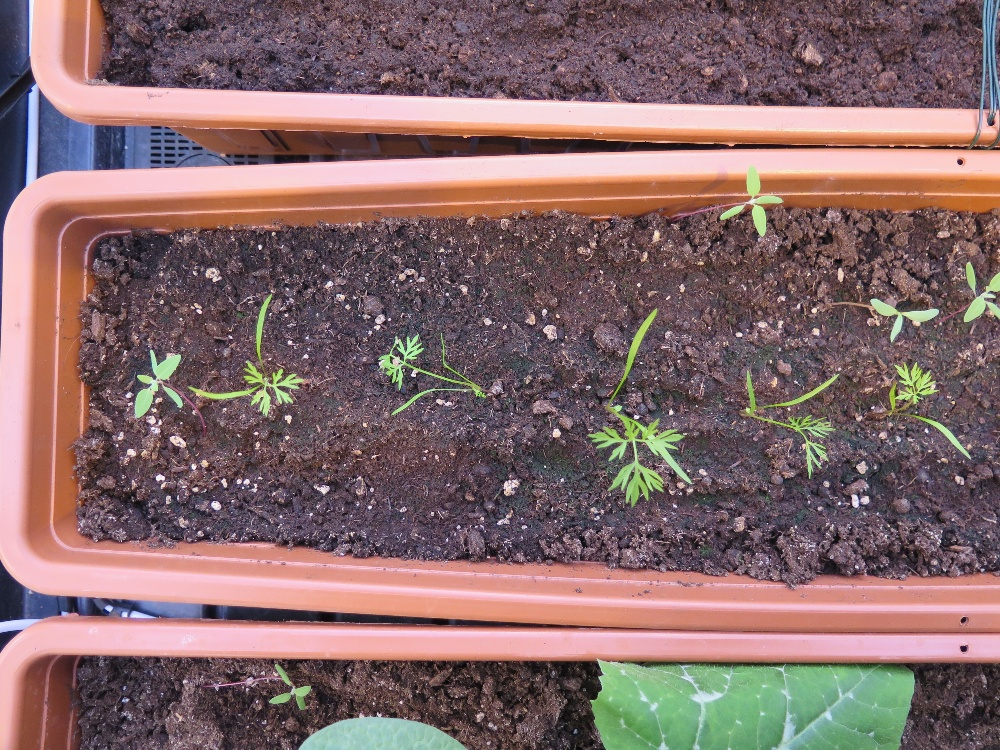crop: (586, 301, 694, 510), (188, 290, 306, 420), (741, 370, 841, 480), (375, 329, 491, 421), (887, 359, 973, 461)
weed: (718, 163, 785, 238), (133, 342, 183, 421), (868, 296, 940, 345), (267, 661, 312, 712)
